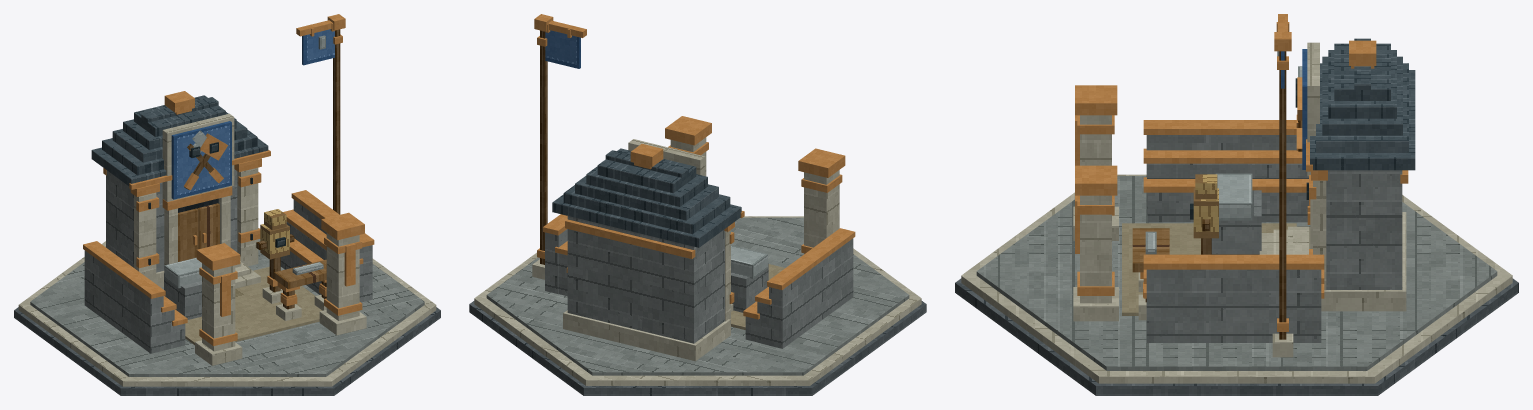
Rendered from dwarf_warrior_mastery_hex_v1.glb.
3 views of the same model, side by side, from view 1: azimuth 30°, elevation 25°; view 2: azimuth 150°, elevation 25°; view 3: azimuth 270°, elevation 25° (orthographic). The views are drawn at different scales.
Parts seen in each view (by area): view 1: Dwarf_Warrior_Mastery_Hex_V1_Foundation, Dwarf_Warrior_Mastery_Hex_V1_Courtyard, Dwarf_Warrior_Mastery_Hex_V1_Faction, Dwarf_Warrior_Mastery_Hex_V1_Hall, Dwarf_Warrior_Mastery_Hex_V1_Focus, Dwarf_Warrior_Mastery_Hex_V1_Details, Dwarf_Warrior_Mastery_Hex_V1_Roofs, Dwarf_Warrior_Mastery_Hex_V1_Training; view 2: Dwarf_Warrior_Mastery_Hex_V1_Foundation, Dwarf_Warrior_Mastery_Hex_V1_Hall, Dwarf_Warrior_Mastery_Hex_V1_Roofs, Dwarf_Warrior_Mastery_Hex_V1_Courtyard, Dwarf_Warrior_Mastery_Hex_V1_Focus, Dwarf_Warrior_Mastery_Hex_V1_Faction, Dwarf_Warrior_Mastery_Hex_V1_Details, Dwarf_Warrior_Mastery_Hex_V1_Training; view 3: Dwarf_Warrior_Mastery_Hex_V1_Foundation, Dwarf_Warrior_Mastery_Hex_V1_Courtyard, Dwarf_Warrior_Mastery_Hex_V1_Roofs, Dwarf_Warrior_Mastery_Hex_V1_Hall, Dwarf_Warrior_Mastery_Hex_V1_Focus, Dwarf_Warrior_Mastery_Hex_V1_Training, Dwarf_Warrior_Mastery_Hex_V1_Faction, Dwarf_Warrior_Mastery_Hex_V1_Details.
Boxes of the visible parts, bbox=[...] form: Dwarf_Warrior_Mastery_Hex_V1_Foundation: bbox=[14, 228, 440, 395]; Dwarf_Warrior_Mastery_Hex_V1_Courtyard: bbox=[83, 190, 374, 353]; Dwarf_Warrior_Mastery_Hex_V1_Faction: bbox=[162, 14, 345, 214]; Dwarf_Warrior_Mastery_Hex_V1_Hall: bbox=[106, 169, 258, 287]; Dwarf_Warrior_Mastery_Hex_V1_Focus: bbox=[195, 212, 366, 365]; Dwarf_Warrior_Mastery_Hex_V1_Details: bbox=[103, 34, 362, 346]; Dwarf_Warrior_Mastery_Hex_V1_Roofs: bbox=[91, 91, 270, 189]; Dwarf_Warrior_Mastery_Hex_V1_Training: bbox=[164, 209, 326, 320]; Dwarf_Warrior_Mastery_Hex_V1_Foundation: bbox=[469, 216, 926, 395]; Dwarf_Warrior_Mastery_Hex_V1_Hall: bbox=[563, 216, 730, 361]; Dwarf_Warrior_Mastery_Hex_V1_Roofs: bbox=[552, 144, 744, 247]; Dwarf_Warrior_Mastery_Hex_V1_Courtyard: bbox=[543, 214, 855, 348]; Dwarf_Warrior_Mastery_Hex_V1_Focus: bbox=[665, 116, 845, 254]; Dwarf_Warrior_Mastery_Hex_V1_Faction: bbox=[532, 14, 705, 279]; Dwarf_Warrior_Mastery_Hex_V1_Details: bbox=[537, 36, 842, 321]; Dwarf_Warrior_Mastery_Hex_V1_Training: bbox=[731, 245, 768, 312]; Dwarf_Warrior_Mastery_Hex_V1_Foundation: bbox=[955, 174, 1518, 395]; Dwarf_Warrior_Mastery_Hex_V1_Courtyard: bbox=[1122, 120, 1324, 342]; Dwarf_Warrior_Mastery_Hex_V1_Roofs: bbox=[1306, 38, 1415, 171]; Dwarf_Warrior_Mastery_Hex_V1_Hall: bbox=[1310, 170, 1406, 311]; Dwarf_Warrior_Mastery_Hex_V1_Focus: bbox=[1073, 85, 1118, 321]; Dwarf_Warrior_Mastery_Hex_V1_Training: bbox=[1132, 173, 1261, 320]; Dwarf_Warrior_Mastery_Hex_V1_Faction: bbox=[1272, 14, 1319, 357]; Dwarf_Warrior_Mastery_Hex_V1_Details: bbox=[1075, 56, 1408, 331].
Size of the model in its own units: 1.59 by 1.22 by 1.84.
Materials: 1 (1 with a texture image).
